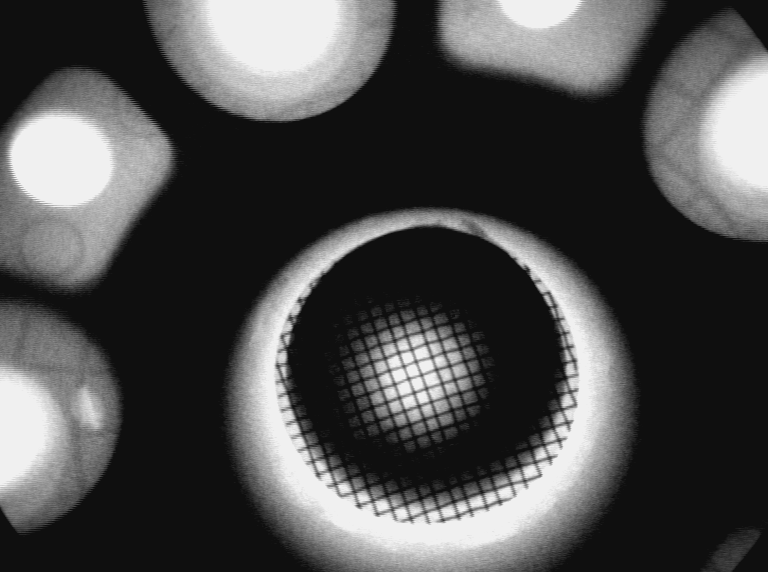defect: (72, 383, 115, 437)
